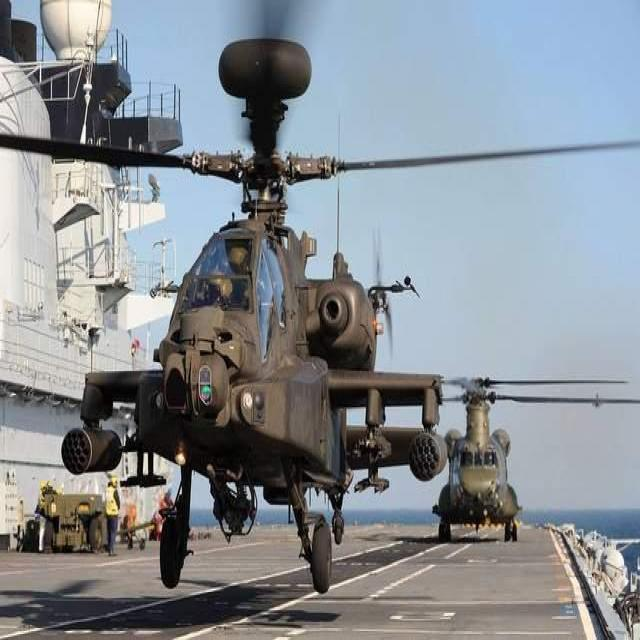MIL_HELO: (0, 44, 627, 596)
